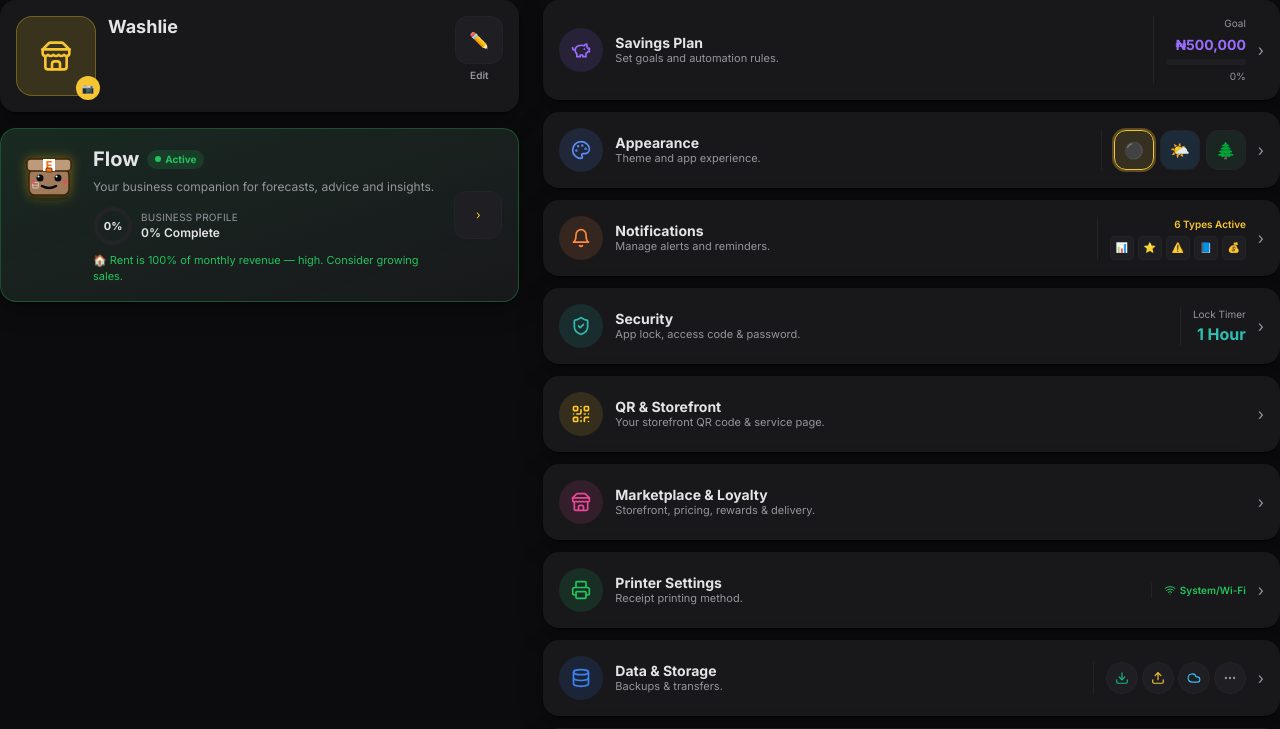
Test case: the rent card › saves the period as soon as it is chosen, and says so
The width and height of the screenshot is (1280, 729).
Click the button "📷 Washlie ✏️ Edit".
click(56, 56)  # box [0, 0, 519, 112]
(page scrolled)
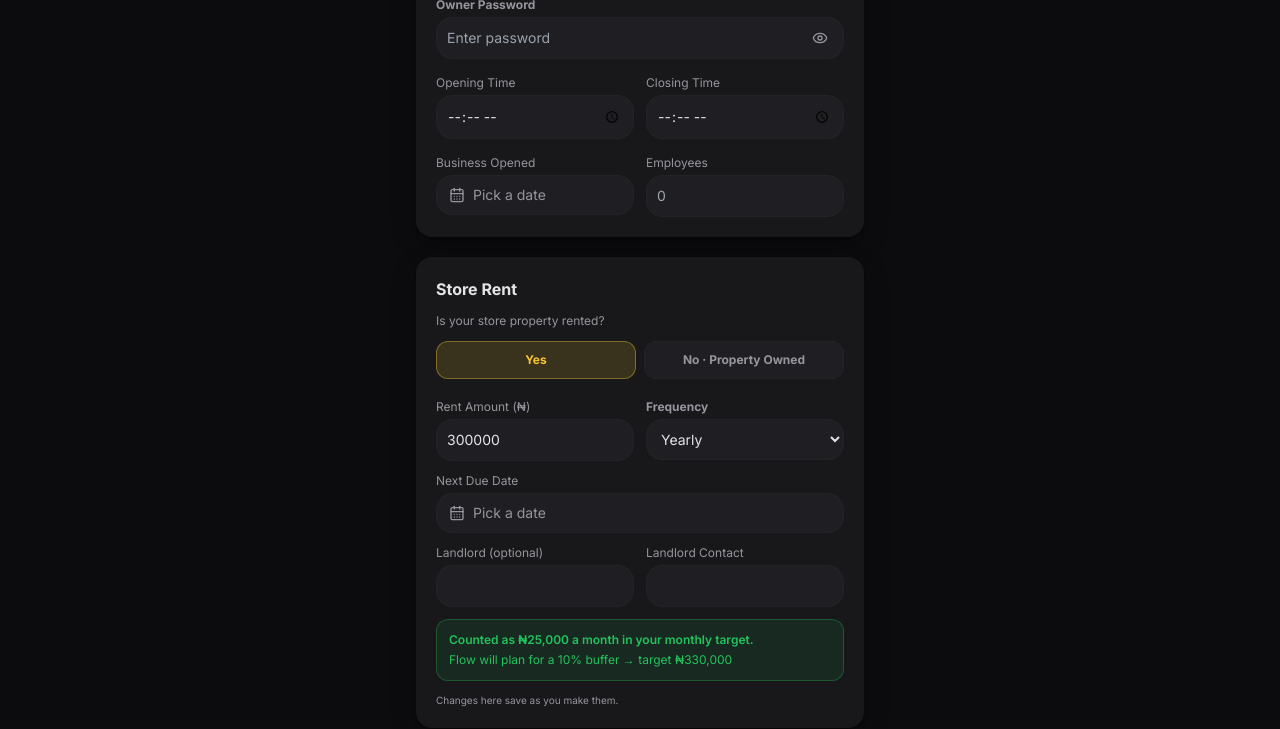
Expected: the text "✓ Saved" is not shown
Select "Monthly" in the dropdown at (745, 440), box [646, 419, 844, 460]
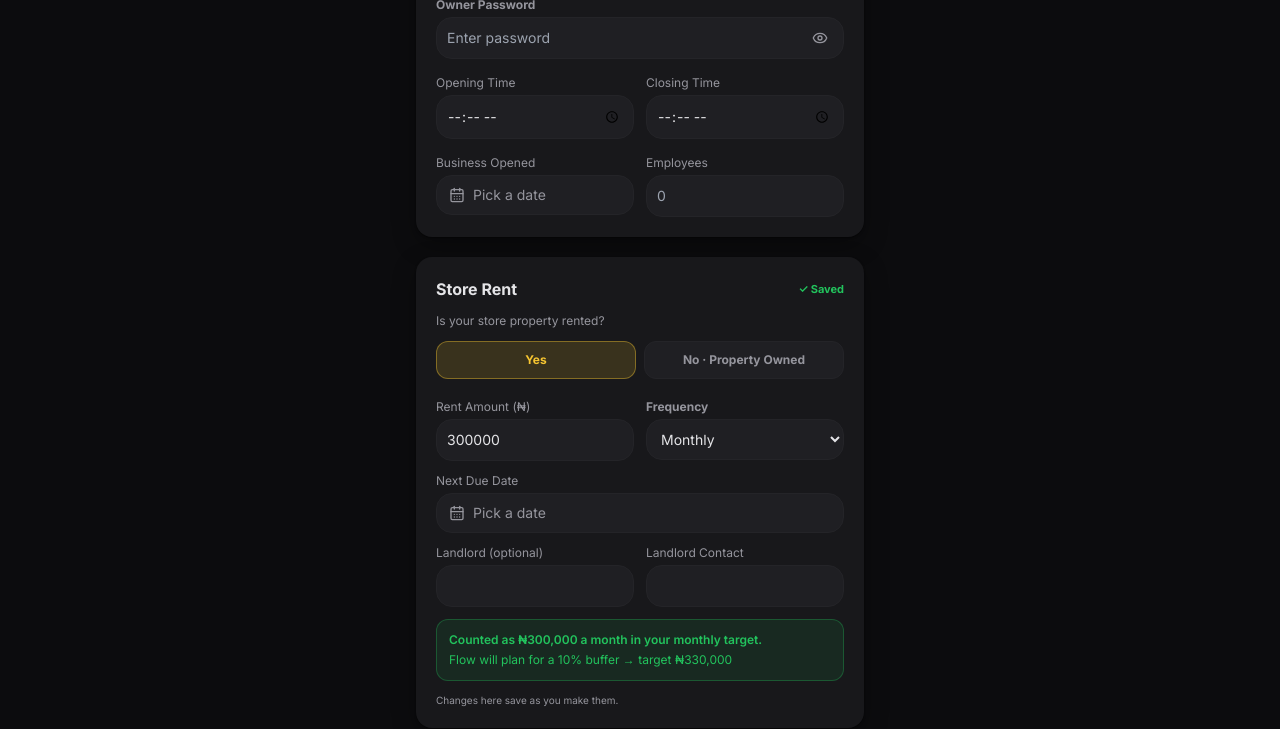
Expected: the text "✓ Saved" is shown, [798, 281, 844, 297]
Expected: the text "Counted as ₦300,000 a month in your monthly target." is shown, [449, 632, 762, 647]
